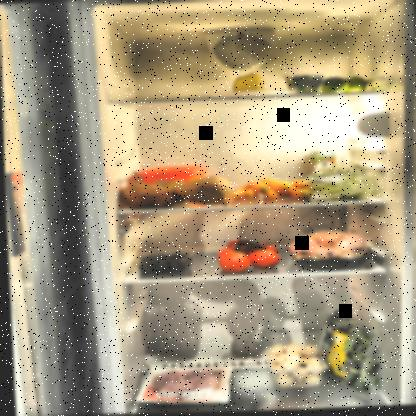blueberries: (138, 254, 192, 274)
butter: (132, 163, 214, 196)
carrot: (228, 175, 310, 204)
cheese: (230, 72, 267, 95)
chicken: (284, 229, 375, 272)
green_beans: (296, 161, 380, 204)
heavy_cream: (308, 151, 335, 184)
lime: (318, 76, 373, 95)
mushrooms: (261, 343, 328, 386)
spinach: (312, 307, 384, 406)
sweet_potato: (117, 174, 229, 213)
tomato: (211, 233, 282, 276)
